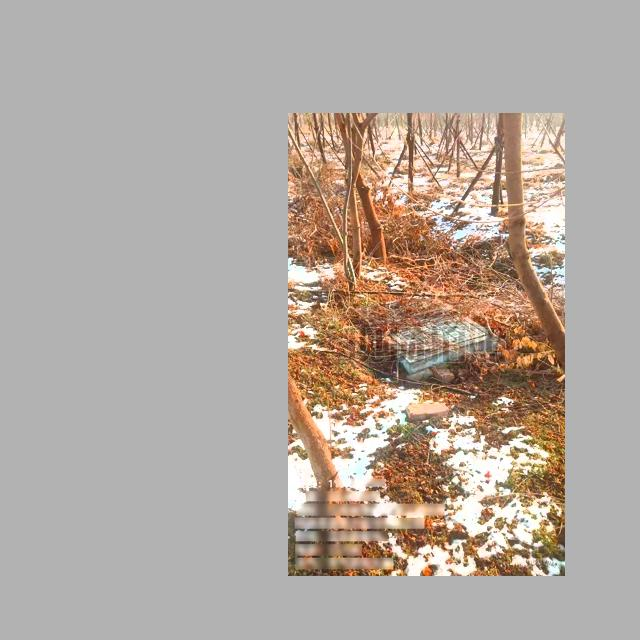circle: (355, 291, 499, 377)
